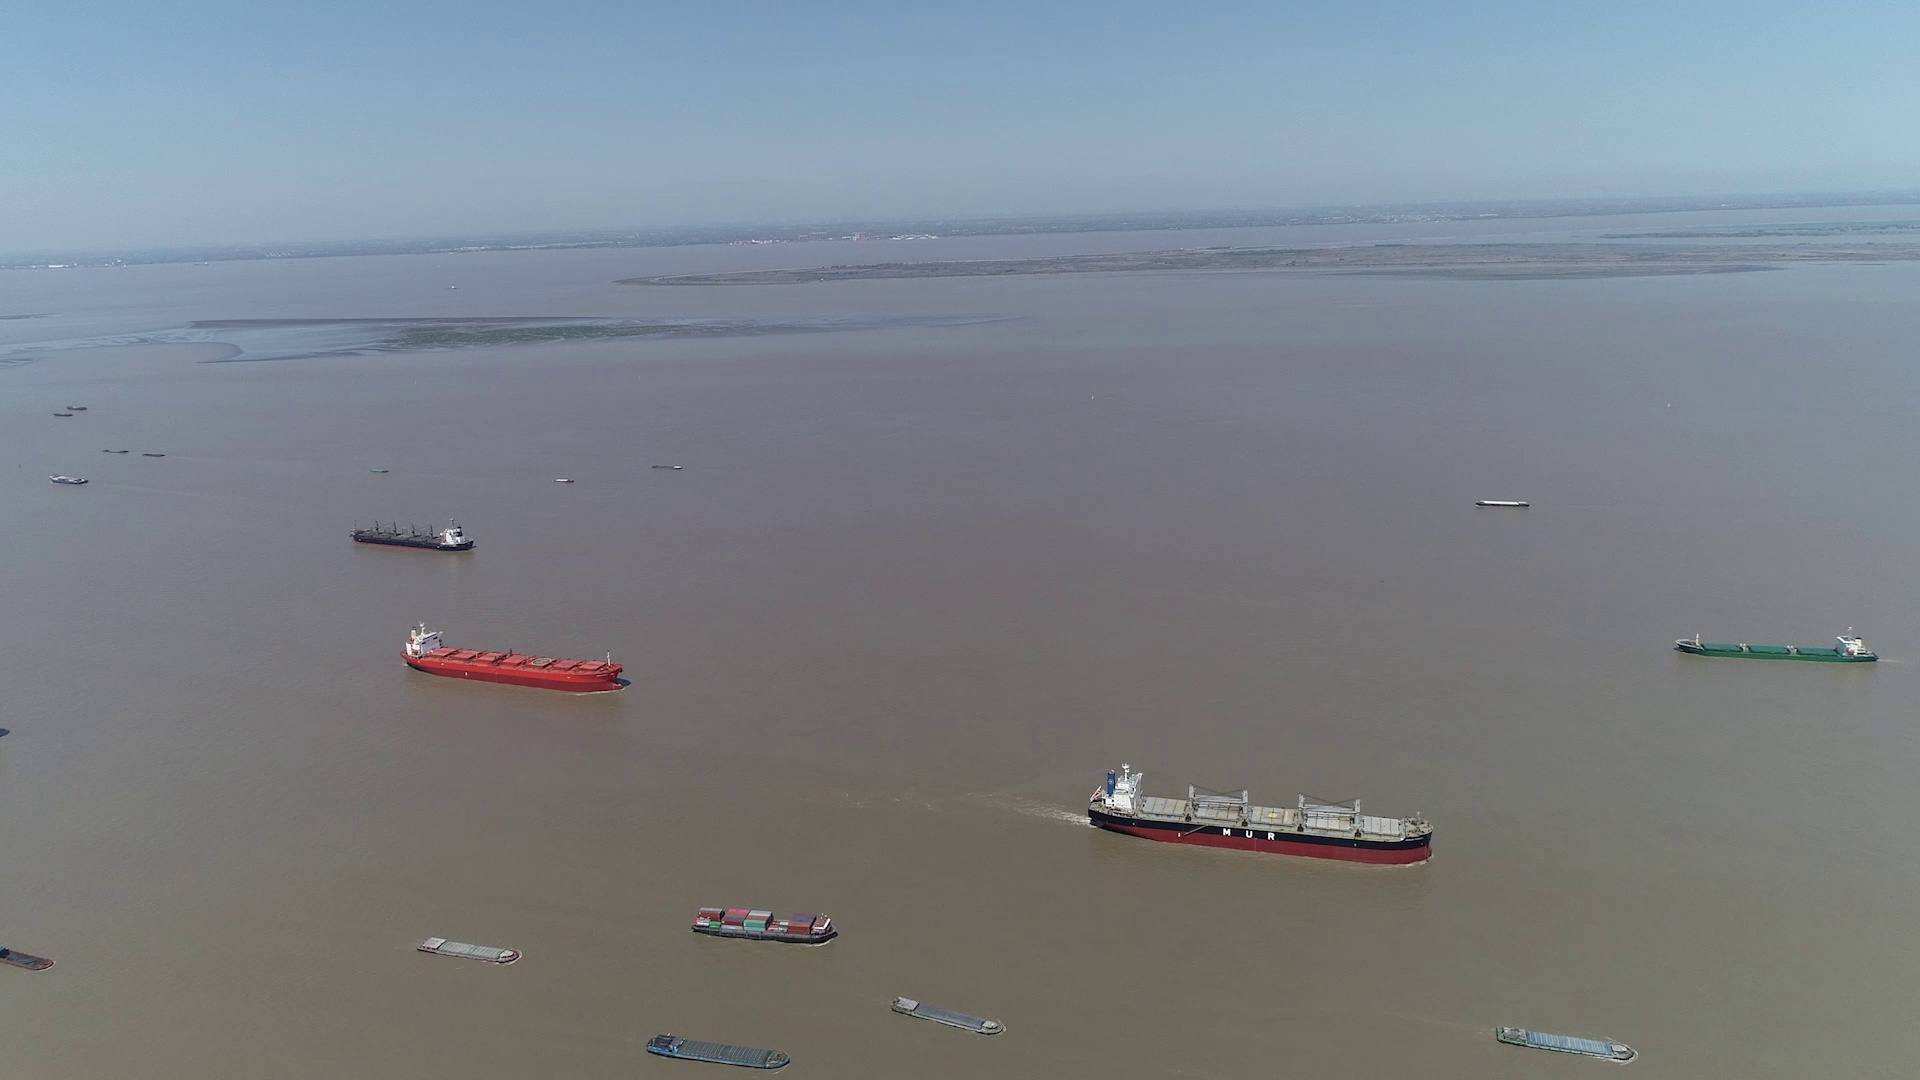ship: (1089, 766, 1433, 864), (400, 622, 621, 694), (1673, 630, 1878, 663), (690, 906, 837, 944), (1495, 1025, 1635, 1064), (647, 1035, 791, 1073), (891, 997, 1005, 1039), (349, 516, 476, 551), (415, 938, 520, 964), (0, 942, 54, 971), (1476, 498, 1530, 509), (47, 473, 90, 484)
